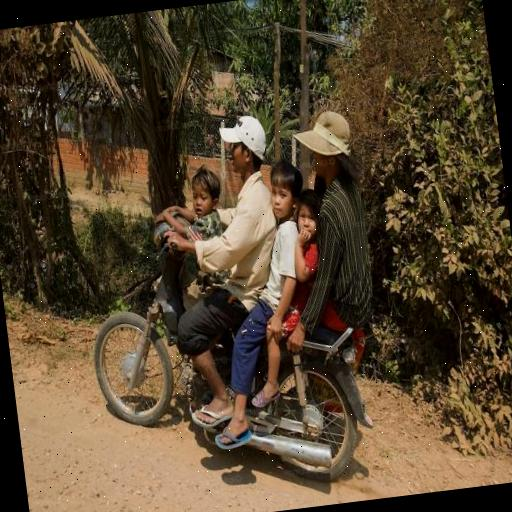no helmet: (210, 100, 280, 208)
triple riding: (67, 79, 436, 512)
